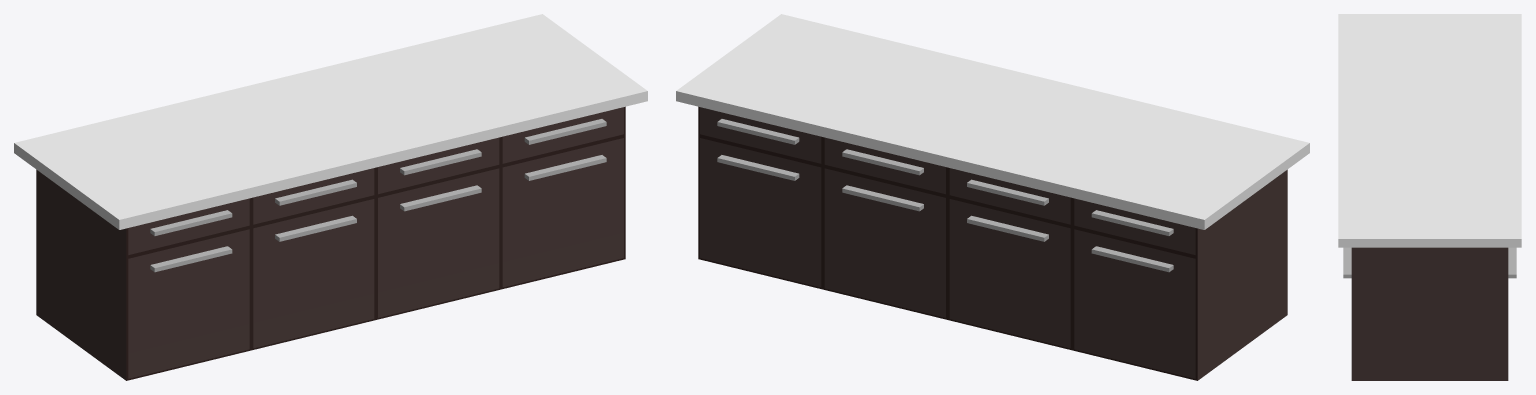
File: kitchen_item_013.glb
The picture shows the model from 3 angles, left to right: view 1: azimuth 30°, elevation 25°; view 2: azimuth 150°, elevation 25°; view 3: azimuth 270°, elevation 25°; orthographic projection. The views are drawn at different scales.
Parts seen in each view (by area): view 1: kitchen_item_013; view 2: kitchen_item_013; view 3: kitchen_item_013.
Boxes of the visible parts, box(x1,y1,x2,y2) form: kitchen_item_013: box(14, 14, 647, 380); kitchen_item_013: box(676, 14, 1309, 380); kitchen_item_013: box(1338, 14, 1521, 380).
Bounding box in the file's own units: 2.42 × 0.7442 × 0.8343.
Materials: 1 (1 with a texture image).
